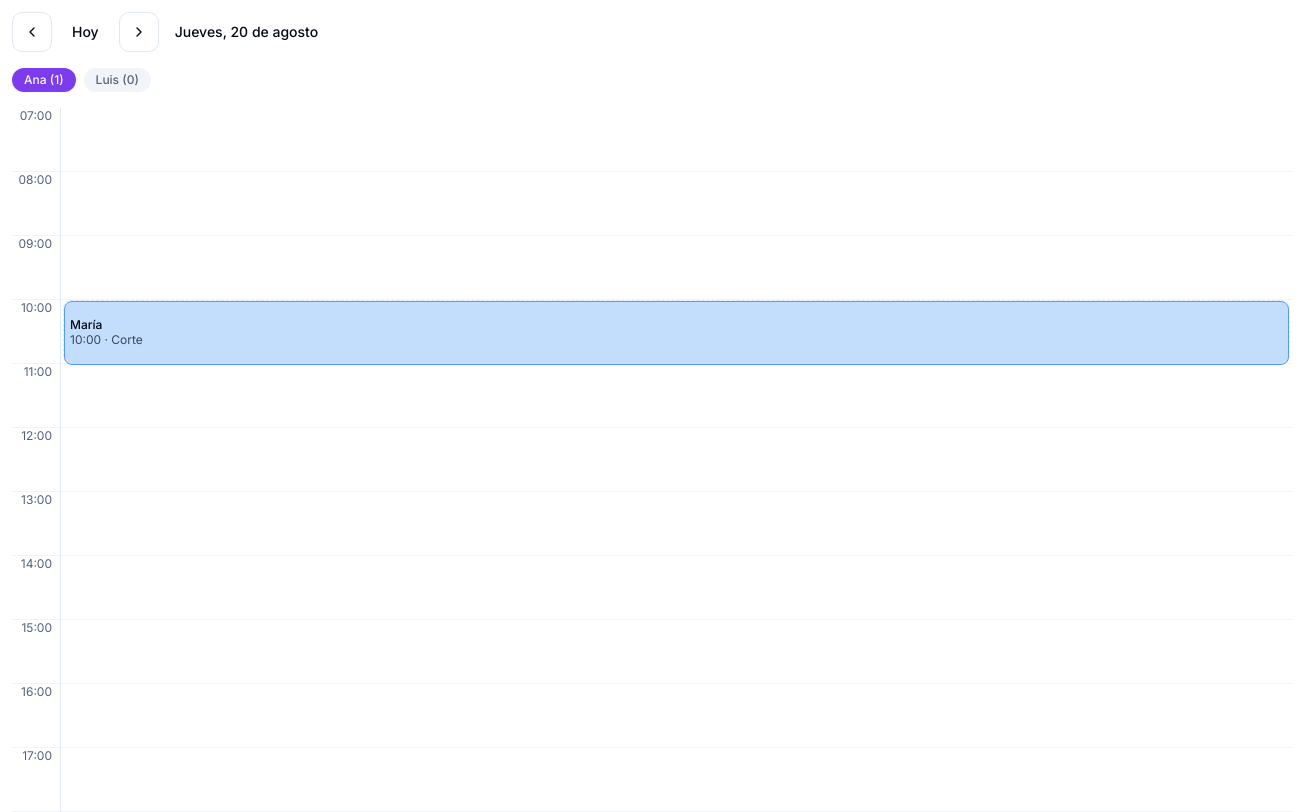
Test case: DayView en el celular › enseña un profesional a la vez y se cambia con su chip
Expected: the text "María" is shown, [70,317,102,332]
Click the button "Luis (0)" at (117, 80), box [84,68,151,92]
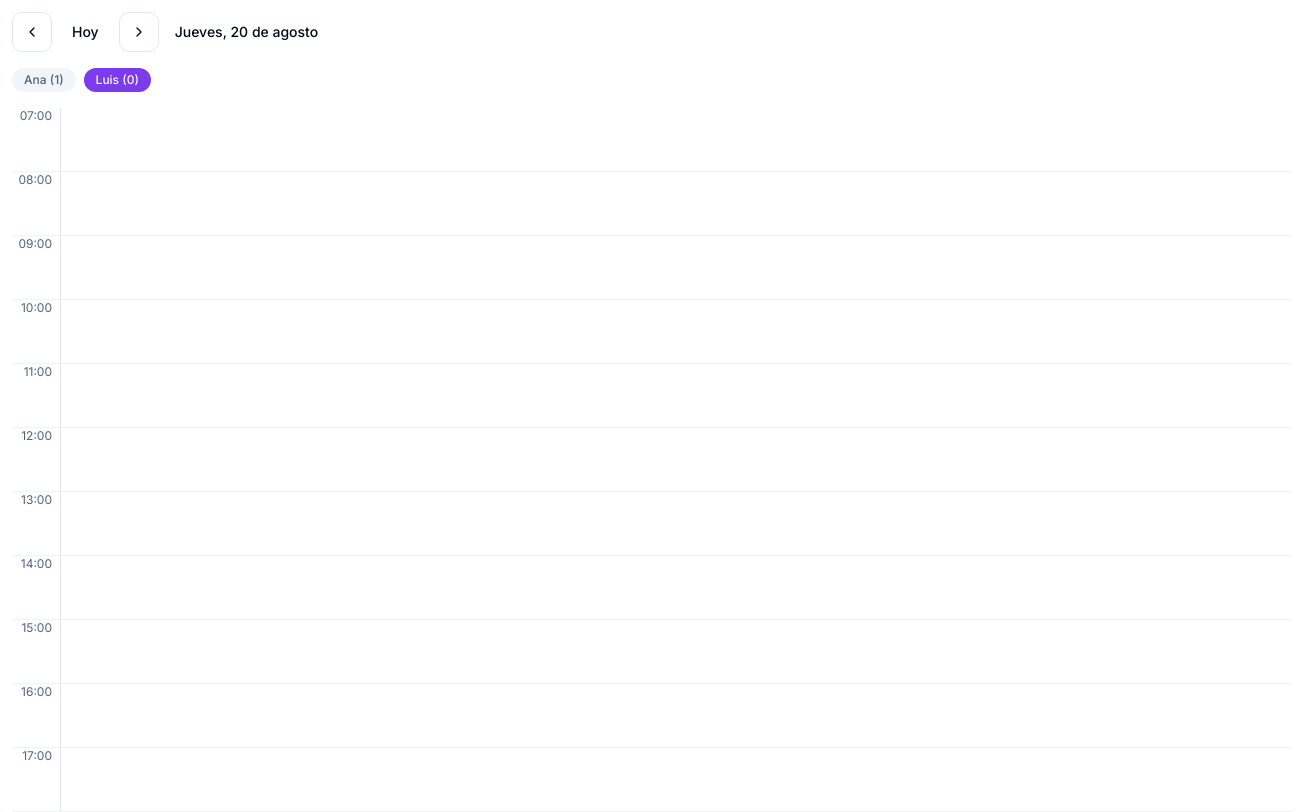
Expected: the button "María" is gone
